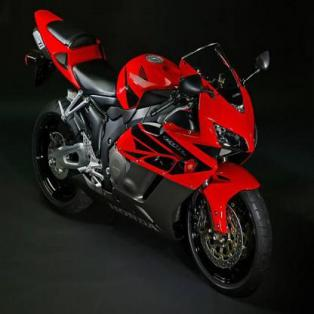Motocicleta: (21, 6, 276, 301)
